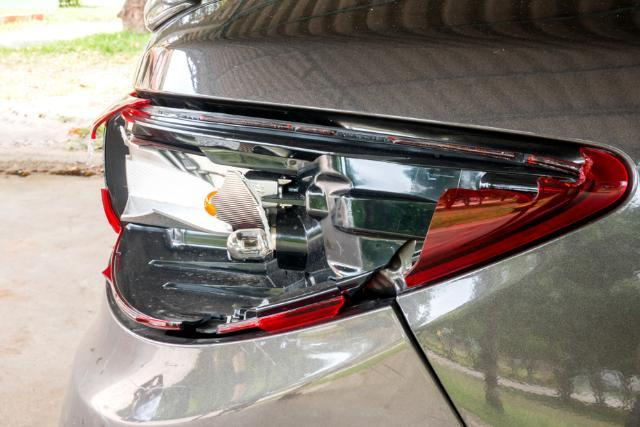Light: (98, 110, 582, 311)
